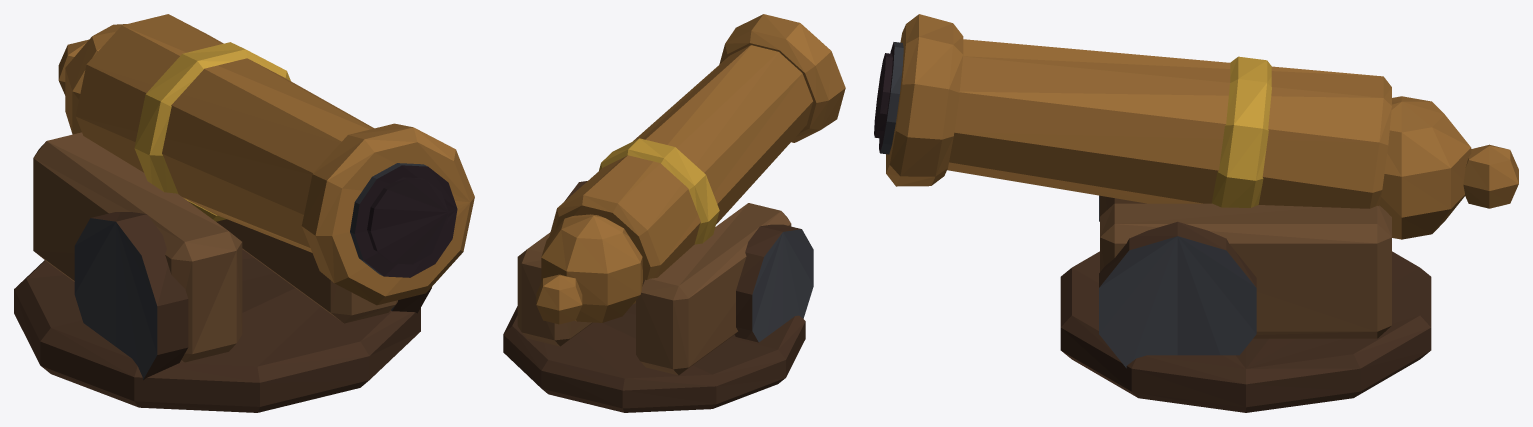
The model's file is cannon_icon.glb.
3 renders of one model, left to right at view 1: azimuth 30°, elevation 25°; view 2: azimuth 150°, elevation 25°; view 3: azimuth 270°, elevation 25°, orthographic. The views are drawn at different scales.
Visible parts, largest first — view 1: cannon_icon; view 2: cannon_icon; view 3: cannon_icon.
Part boxes in pixels (x1,y1,x2,y2): cannon_icon: [14, 14, 474, 412]; cannon_icon: [503, 14, 845, 412]; cannon_icon: [874, 14, 1518, 412].
Size of the model in its own units: 0.4 by 0.3514 by 0.6623.
